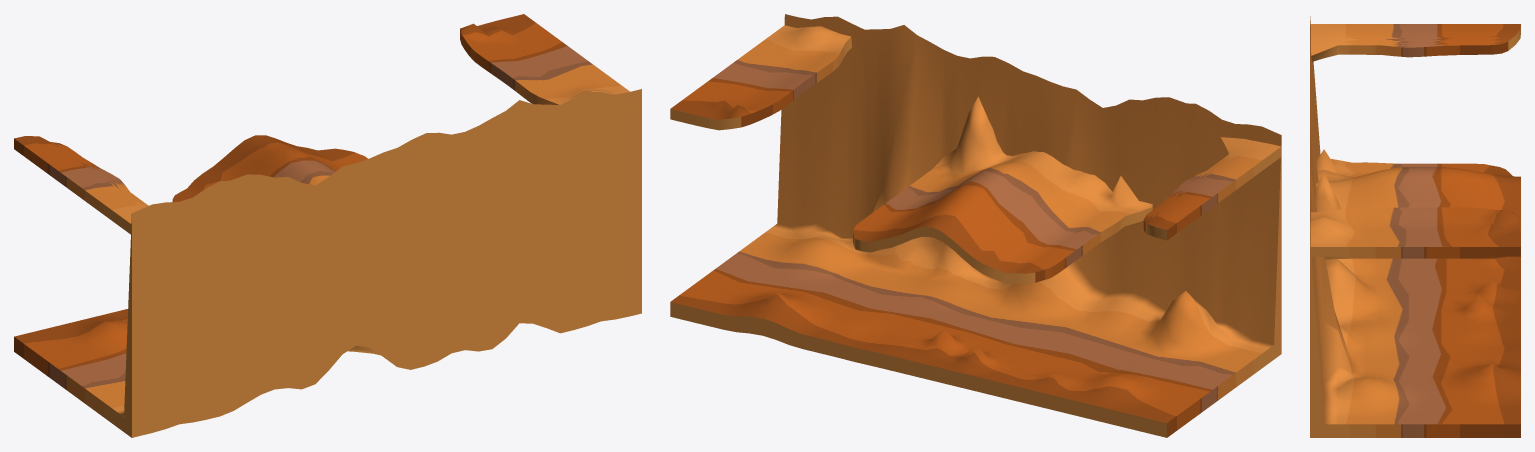
File: tileableHardCanyon2.fbx
3 renders of one model, left to right at view 1: azimuth 30°, elevation 25°; view 2: azimuth 150°, elevation 25°; view 3: azimuth 270°, elevation 25°, orthographic. The views are drawn at different scales.
Visible parts, largest first — view 1: tileableHardCanyon2, tileableHardCanyon22, tileableHardCanyon21, tileableHardCanyon23; view 2: tileableHardCanyon2, tileableHardCanyon21, tileableHardCanyon22, tileableHardCanyon23; view 3: tileableHardCanyon2, tileableHardCanyon22, tileableHardCanyon21, tileableHardCanyon23.
Boxes of the visible parts, x1,y1,x2,y2 form: tileableHardCanyon2: (14, 89, 641, 437); tileableHardCanyon22: (460, 14, 641, 114); tileableHardCanyon21: (172, 135, 468, 289); tileableHardCanyon23: (14, 136, 191, 234); tileableHardCanyon2: (670, 14, 1281, 437); tileableHardCanyon21: (853, 96, 1152, 283); tileableHardCanyon22: (670, 25, 851, 130); tileableHardCanyon23: (1143, 137, 1281, 240); tileableHardCanyon2: (1310, 16, 1520, 437); tileableHardCanyon22: (1310, 207, 1520, 256); tileableHardCanyon21: (1314, 149, 1520, 259); tileableHardCanyon23: (1310, 24, 1520, 61).
Size of the model in its own units: 0.5 by 0.2299 by 0.2.
